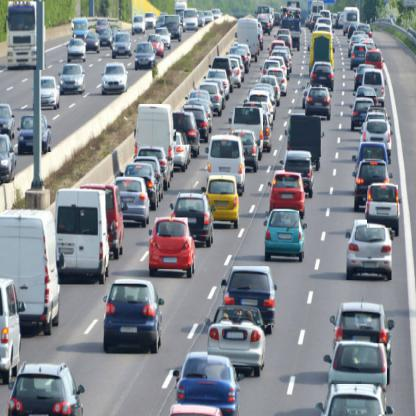car: (2, 208, 60, 337), (57, 192, 108, 286), (108, 285, 161, 355), (209, 308, 268, 369), (182, 349, 236, 414), (18, 363, 82, 416), (223, 267, 276, 327), (347, 221, 393, 282), (330, 340, 388, 386), (336, 303, 396, 345), (324, 383, 387, 416), (150, 218, 189, 271), (1, 280, 20, 381), (139, 105, 175, 158), (172, 192, 213, 238), (267, 212, 301, 263), (210, 137, 244, 185), (289, 114, 322, 159), (115, 178, 149, 221), (207, 177, 238, 222), (368, 186, 399, 229), (272, 171, 305, 211), (107, 185, 124, 256), (22, 117, 53, 154), (236, 109, 264, 141), (306, 85, 332, 118), (177, 109, 199, 147), (105, 61, 129, 94), (365, 66, 389, 98), (1, 135, 16, 185), (363, 120, 392, 145), (239, 20, 260, 54), (358, 142, 390, 164), (358, 163, 387, 187), (42, 78, 62, 112), (311, 61, 335, 89), (62, 67, 86, 94), (186, 105, 210, 131), (286, 151, 311, 175), (136, 44, 157, 72), (113, 31, 131, 61), (68, 40, 87, 66), (201, 83, 223, 105), (354, 98, 370, 124), (1, 105, 14, 136), (352, 47, 367, 70), (75, 18, 87, 45), (366, 50, 383, 69), (166, 17, 180, 39), (343, 8, 359, 27), (150, 36, 165, 56), (184, 13, 198, 32), (133, 16, 145, 38), (208, 69, 228, 82), (88, 35, 100, 53), (143, 14, 155, 32), (156, 30, 170, 43), (157, 16, 164, 29)
truck: (7, 3, 47, 72)
